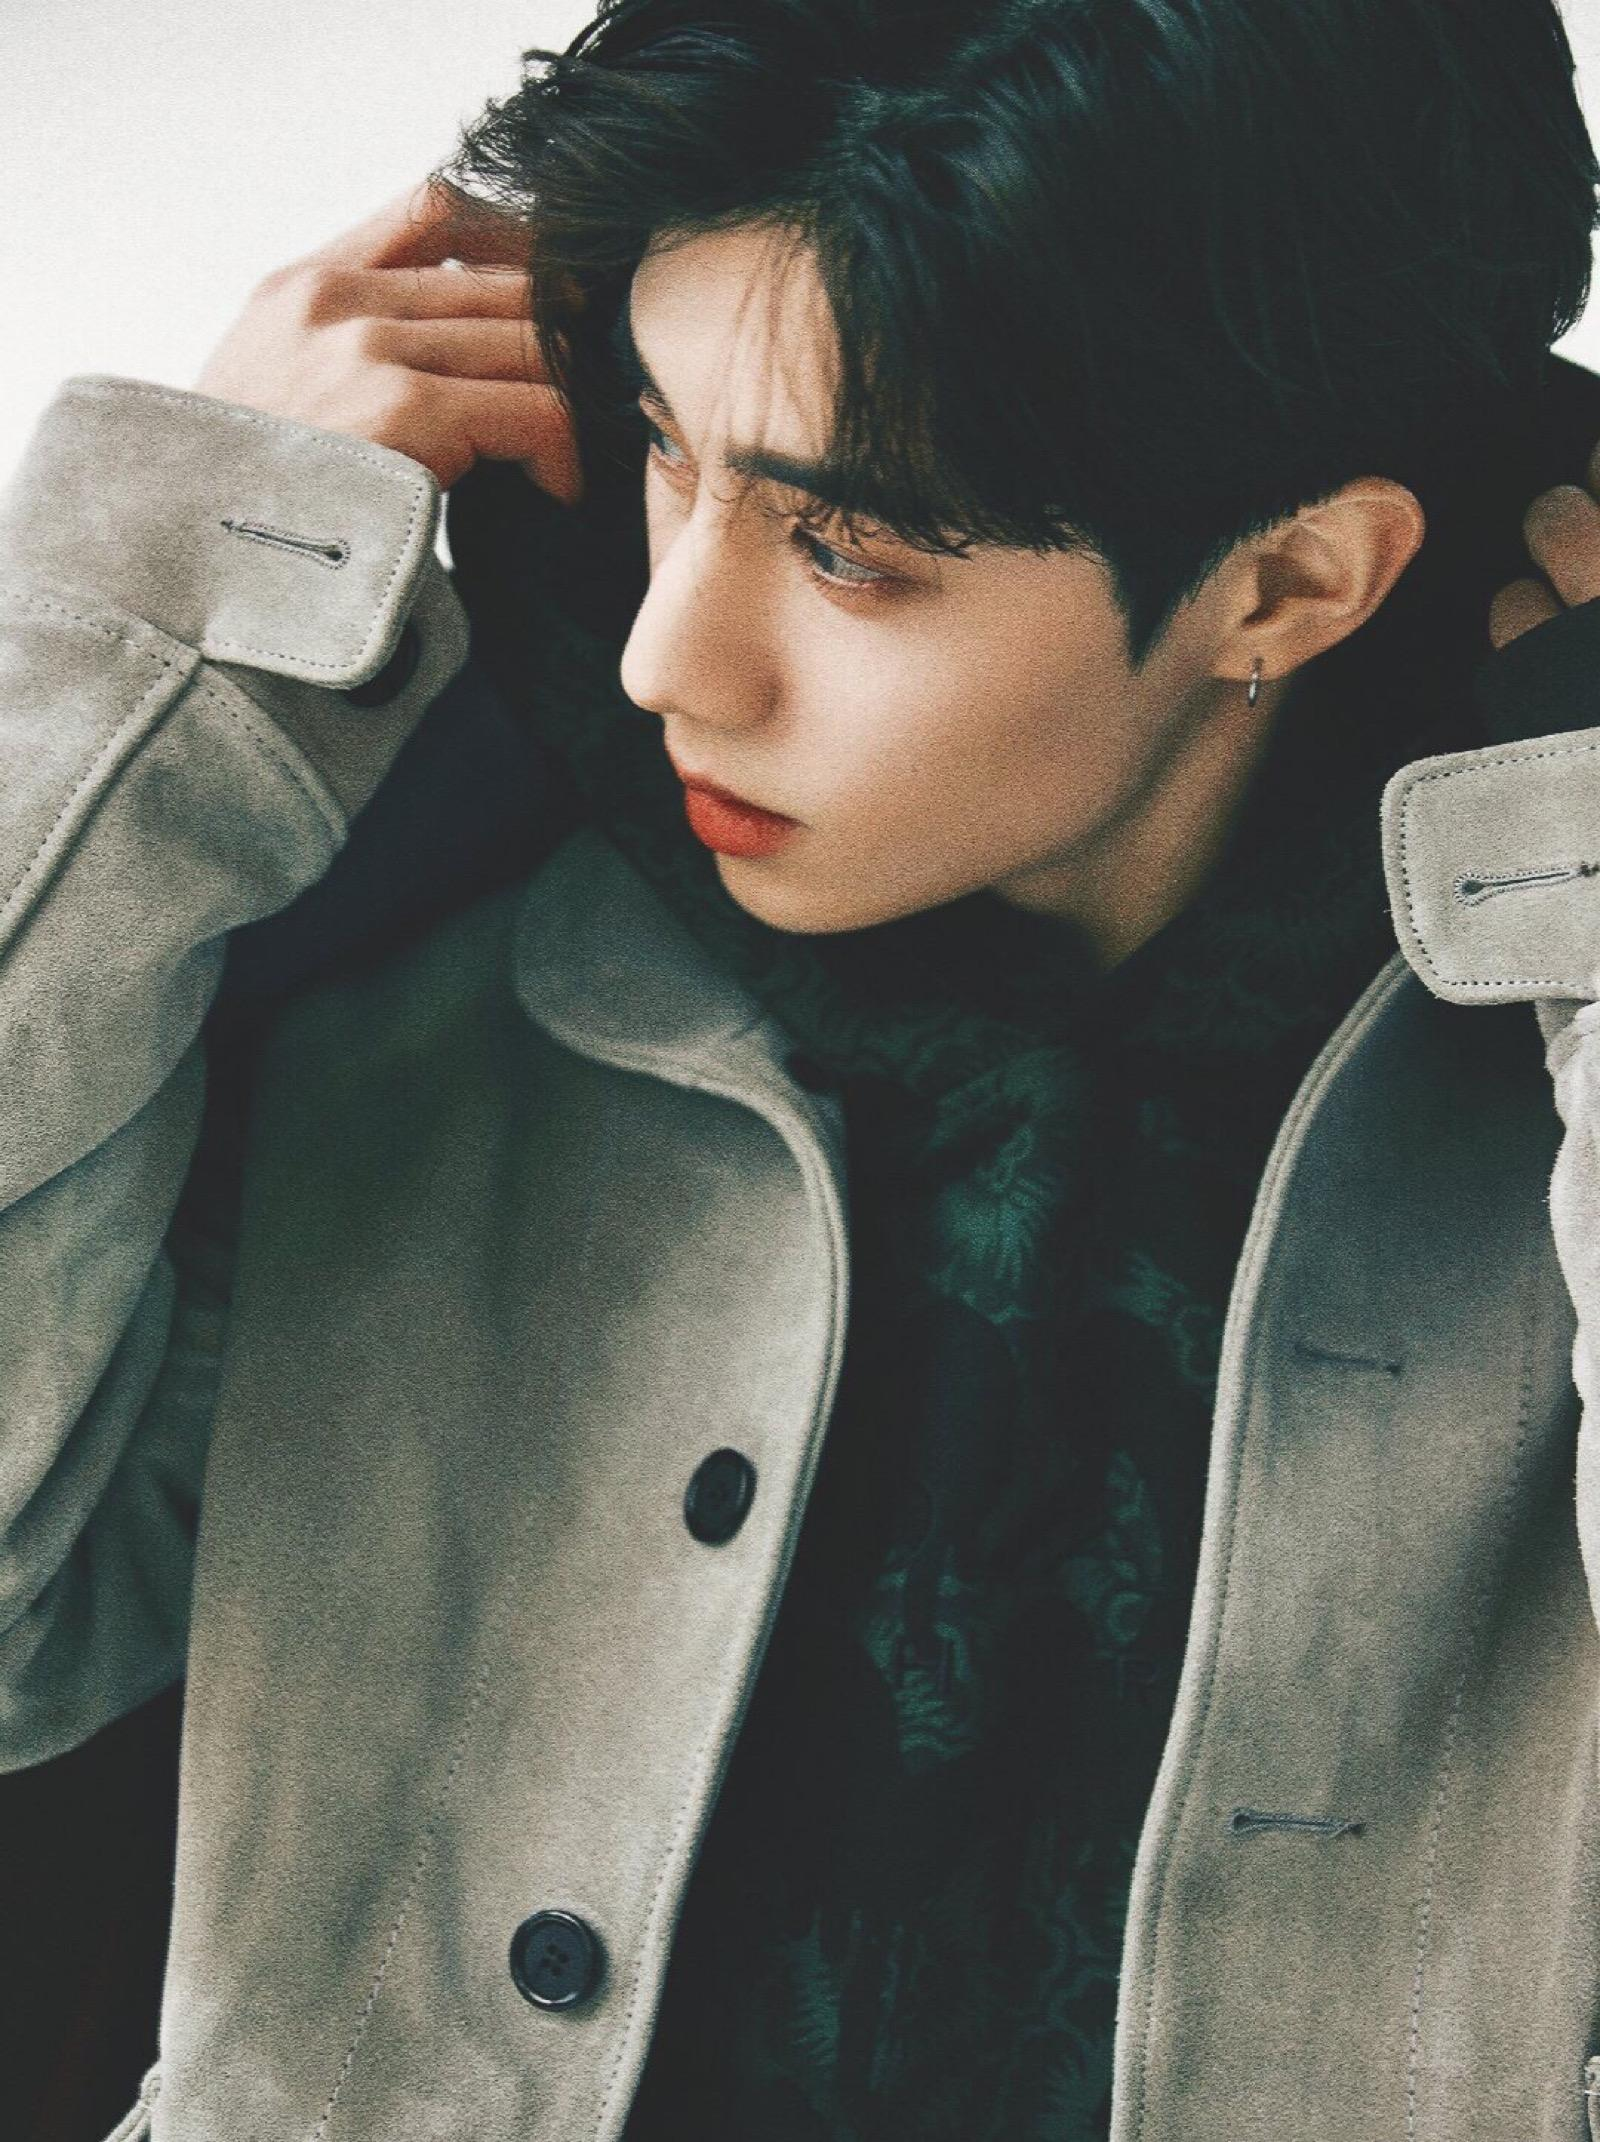person: (337, 50, 1600, 2109)
